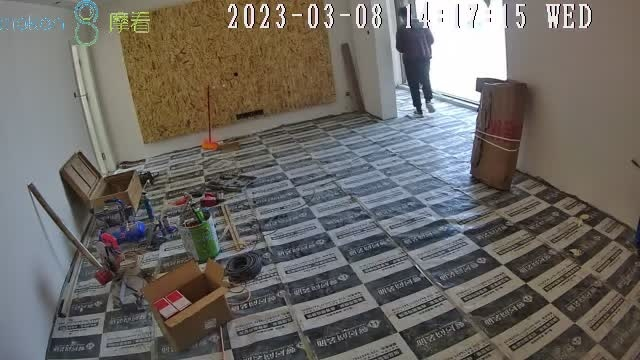people: (396, 6, 435, 117)
window: (411, 1, 509, 106)
